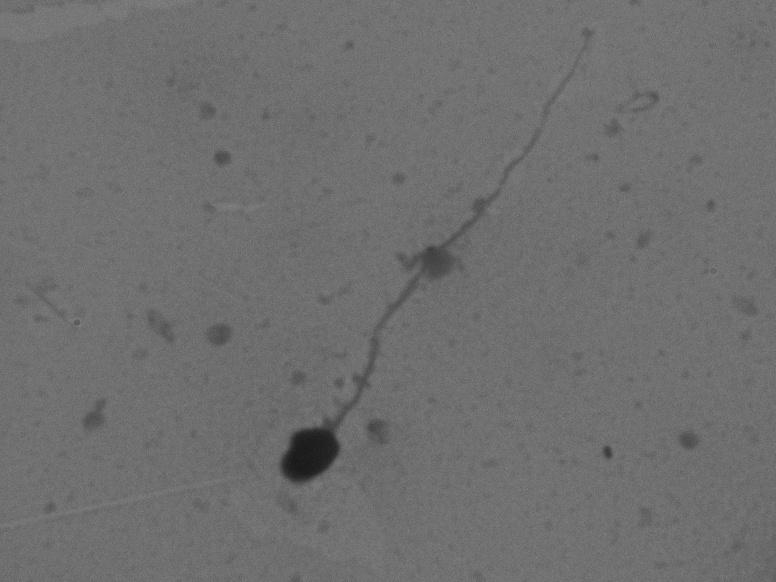Abnormal: (238, 21, 656, 502)
